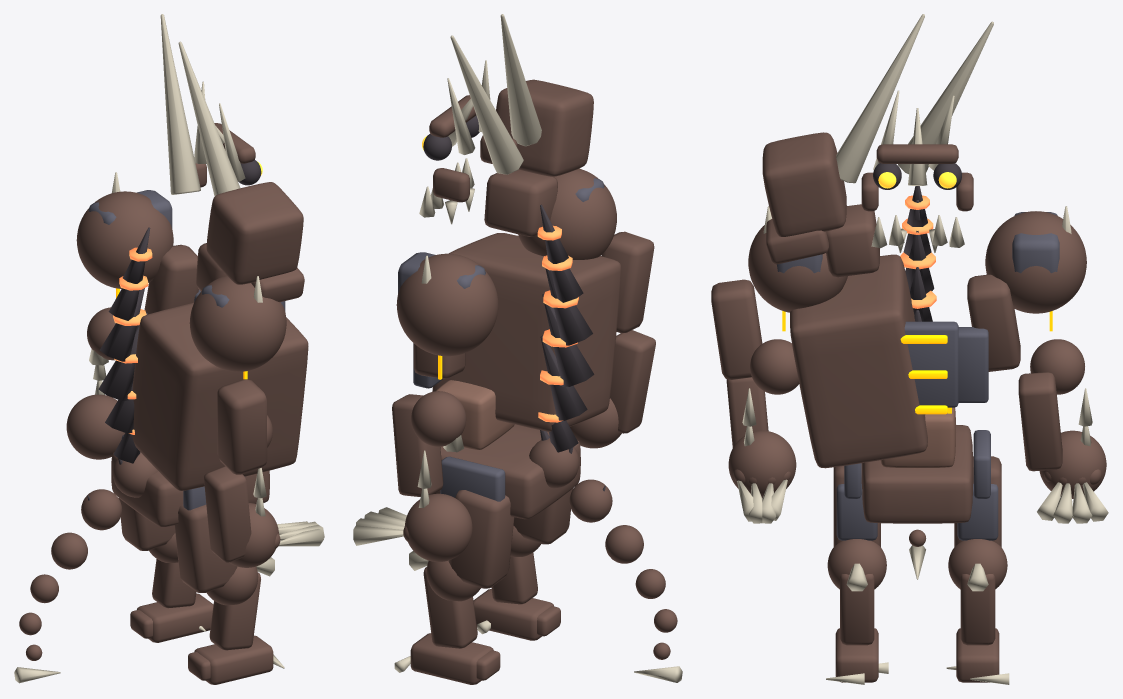
File: model-abstract.glb
3 views of the same model, side by side, from view 1: azimuth 30°, elevation 25°; view 2: azimuth 150°, elevation 25°; view 3: azimuth 270°, elevation 25° (orthographic). The views are drawn at different scales.
Parts seen in each view (by area): view 1: Torso, Head, Shoulder_R, Shoulder_L, UpperArm_R, Forearm_R, Thigh_R, HornMain_L, Palm_L, UpperArm_L, Pelvis, HornMain_R (+27 smaller); view 2: Torso, Shoulder_L, Head, Shoulder_R, Pelvis, Thigh_L, Neck, Palm_L, Forearm_R, UpperArm_R, Forearm_L, HornMain_L (+31 smaller); view 3: Torso, Head, Pelvis, Shoulder_L, UpperArm_R, Shoulder_R, Forearm_L, UpperArm_L, ChestPlate, HornMain_R, Neck, Palm_R (+26 smaller).
Part boxes in pixels (x1,y1,x2,y2): Torso: [132, 302, 308, 490]; Head: [206, 182, 303, 284]; Shoulder_R: [189, 275, 286, 371]; Shoulder_L: [76, 191, 173, 288]; UpperArm_R: [217, 379, 267, 474]; Forearm_R: [204, 466, 251, 562]; Thigh_R: [174, 504, 237, 592]; HornMain_L: [160, 14, 200, 194]; Palm_L: [66, 394, 124, 459]; UpperArm_L: [144, 244, 198, 314]; Pelvis: [111, 452, 269, 526]; HornMain_R: [178, 41, 240, 196]; Torso: [432, 233, 621, 431]; Shoulder_L: [396, 253, 498, 356]; Head: [496, 79, 593, 176]; Shoulder_R: [518, 168, 616, 259]; Pelvis: [434, 424, 580, 519]; Thigh_L: [448, 490, 514, 588]; Neck: [484, 169, 557, 236]; Palm_L: [404, 493, 472, 561]; Forearm_R: [610, 330, 655, 433]; UpperArm_R: [601, 231, 654, 333]; Forearm_L: [392, 394, 443, 496]; HornMain_L: [450, 35, 523, 174]; Torso: [790, 254, 927, 468]; Head: [762, 132, 846, 236]; Pelvis: [862, 425, 973, 523]; Shoulder_L: [985, 211, 1086, 313]; UpperArm_R: [711, 279, 762, 379]; Shoulder_R: [748, 225, 847, 312]; Forearm_L: [1018, 372, 1062, 471]; UpperArm_L: [967, 274, 1020, 371]; ChestPlate: [904, 321, 958, 407]; HornMain_R: [836, 14, 924, 183]; Neck: [826, 204, 879, 277]; Palm_R: [728, 430, 796, 498].
Size of what is drawn, in the model's own units: 1.32 by 3.29 by 1.84.
